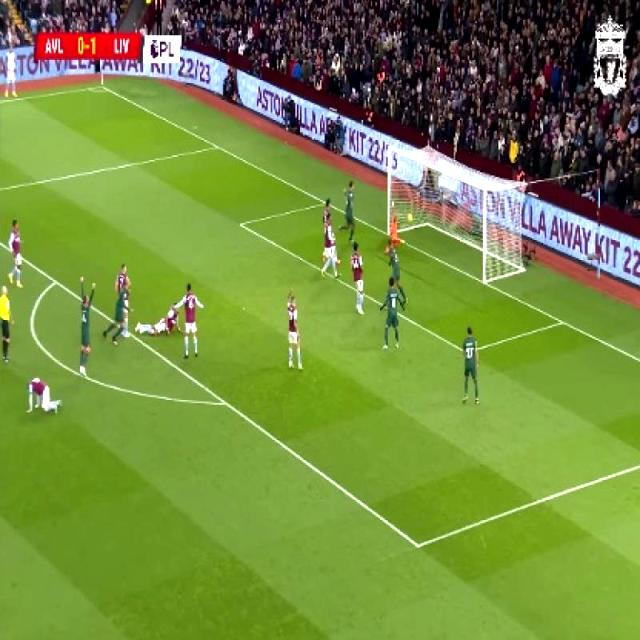bigarea_bottom_inner: (403, 525, 431, 563)
bigarea_top_outter: (210, 137, 224, 155)
bottom_arc_area_intersection: (214, 388, 234, 416)
corner: (89, 78, 111, 92), (1, 89, 22, 103)
smallarea_bottom_outter: (551, 308, 571, 334)
smallarea_top_inner: (231, 212, 249, 235)
smallarea_top_outter: (317, 191, 335, 214)
top_arc_area_intersection: (46, 271, 64, 291)
